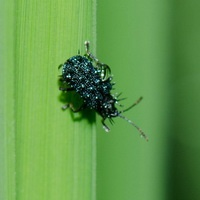insect: (58, 41, 147, 140)
